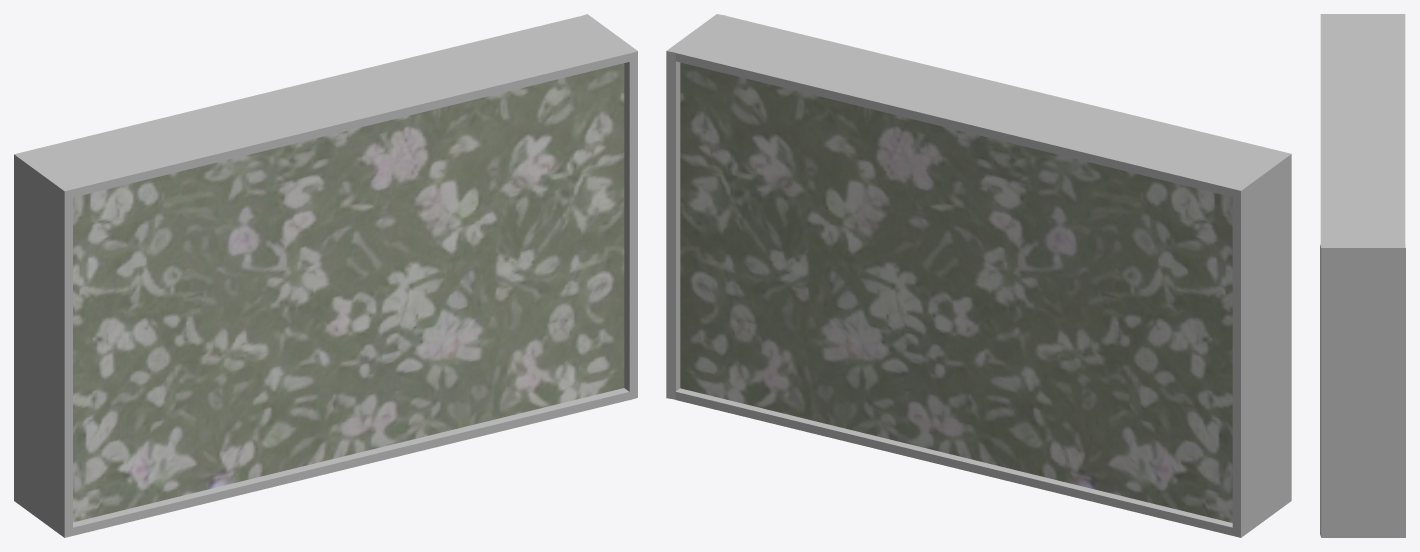
Rendered from tableparti02a.fbx.
3 renders of one model, left to right at view 1: azimuth 30°, elevation 25°; view 2: azimuth 150°, elevation 25°; view 3: azimuth 270°, elevation 25°, orthographic. The views are drawn at different scales.
Visible parts, largest first — view 1: tableparti02a; view 2: tableparti02a; view 3: tableparti02a.
Part boxes in pixels (x1,y1,x2,y2): tableparti02a: (14, 14, 637, 537); tableparti02a: (666, 14, 1291, 537); tableparti02a: (1320, 14, 1405, 537).
Size of the model in its own units: 1.87 by 1.08 by 0.2897.
